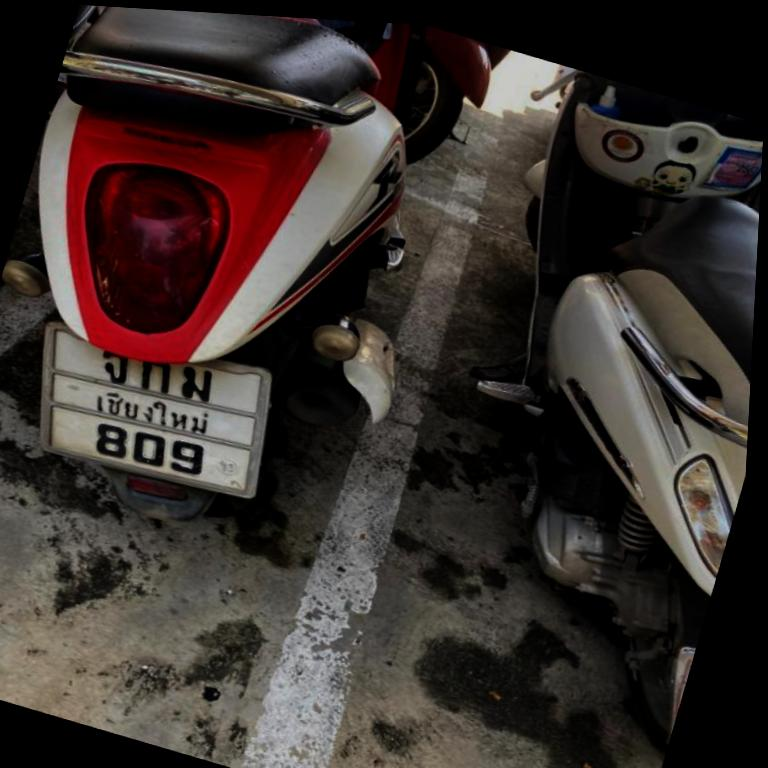license plate: (42, 323, 270, 496)
